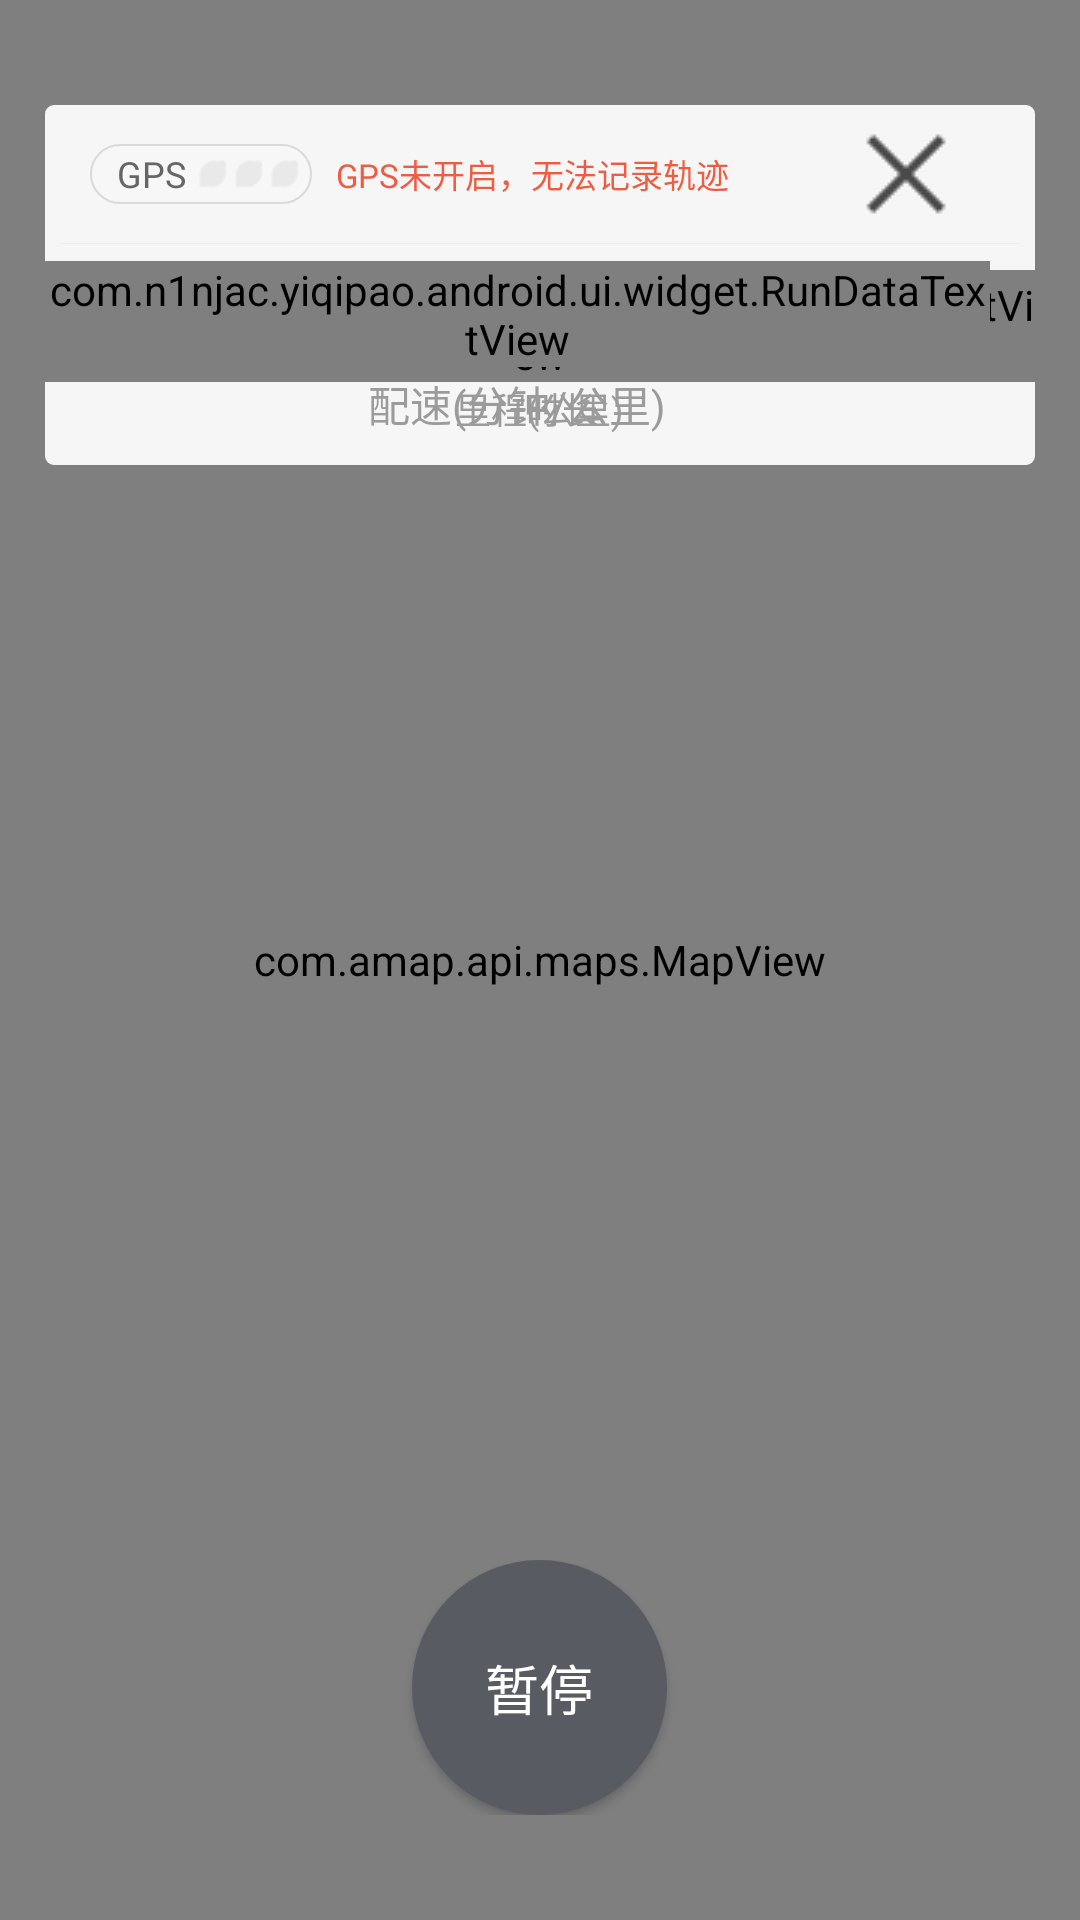

Where icons sit on this 1080 x 1920 app screen, as [x1, y1, x2, y2]:
close back: [866, 134, 946, 214]
